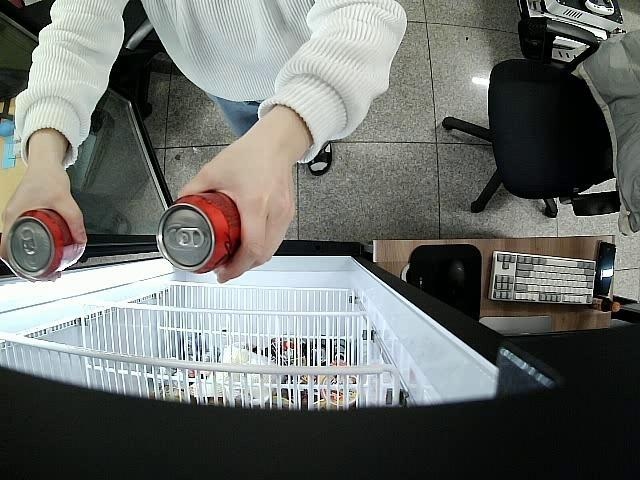11_cocaColaZero: (155, 191, 242, 272), (8, 207, 86, 278)
